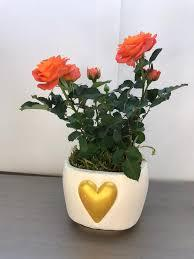Rose: (23, 47, 81, 91), (111, 25, 160, 73)
